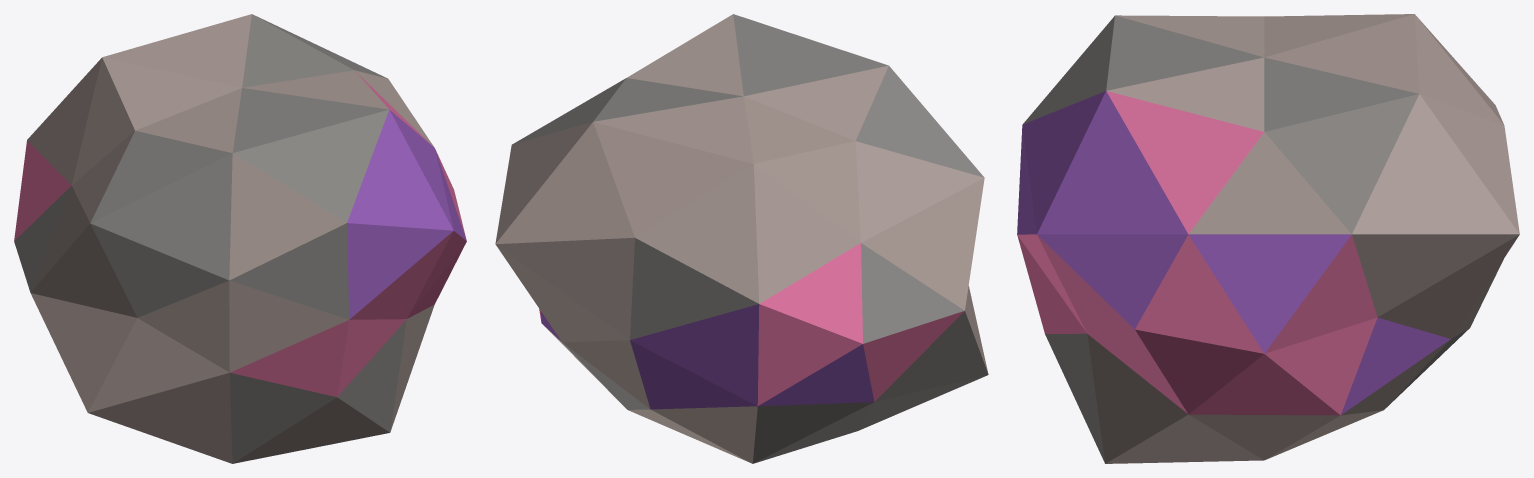
Rendered from rare_earths.glb.
The picture shows the model from 3 angles, left to right: view 1: azimuth 30°, elevation 25°; view 2: azimuth 150°, elevation 25°; view 3: azimuth 270°, elevation 25°; orthographic projection. The views are drawn at different scales.
Visible parts, largest first — view 1: rare_earths; view 2: rare_earths; view 3: rare_earths.
Boxes of the visible parts, x1,y1,x2,y2 form: rare_earths: [14, 14, 466, 463]; rare_earths: [495, 14, 988, 463]; rare_earths: [1017, 14, 1519, 463].
Size of the model in its own units: 0.8852 by 0.6453 by 0.7887.
